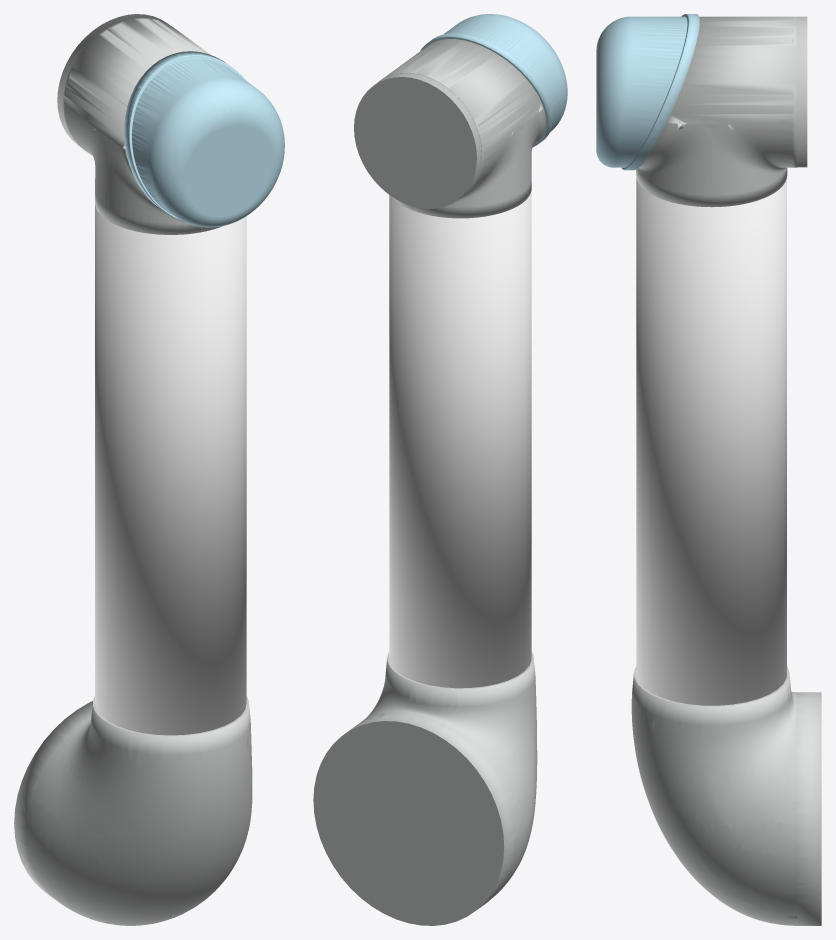
The model's file is forearm.dae.
3 views of the same model, side by side, from view 1: azimuth 30°, elevation 25°; view 2: azimuth 150°, elevation 25°; view 3: azimuth 270°, elevation 25° (orthographic). The views are drawn at different scales.
Visible parts, largest first — view 1: Actor1, Actor3, Actor0_001, Actor2; view 2: Actor1, Actor3, Actor2, Actor0_001; view 3: Actor1, Actor3, Actor2, Actor0_001.
Boxes of the visible parts, x1,y1,x2,y2 form: Actor1: (95, 204, 246, 735); Actor3: (14, 696, 252, 925); Actor0_001: (124, 51, 284, 227); Actor2: (57, 14, 222, 234); Actor1: (389, 191, 531, 688); Actor3: (313, 651, 537, 925); Actor2: (354, 39, 545, 218); Actor0_001: (420, 14, 567, 147); Actor1: (636, 178, 786, 705); Actor3: (631, 666, 821, 925); Actor2: (636, 16, 807, 207); Actor0_001: (596, 14, 699, 170).
Bounding box in the file's own units: 0.116 × 0.1117 × 0.4892.
